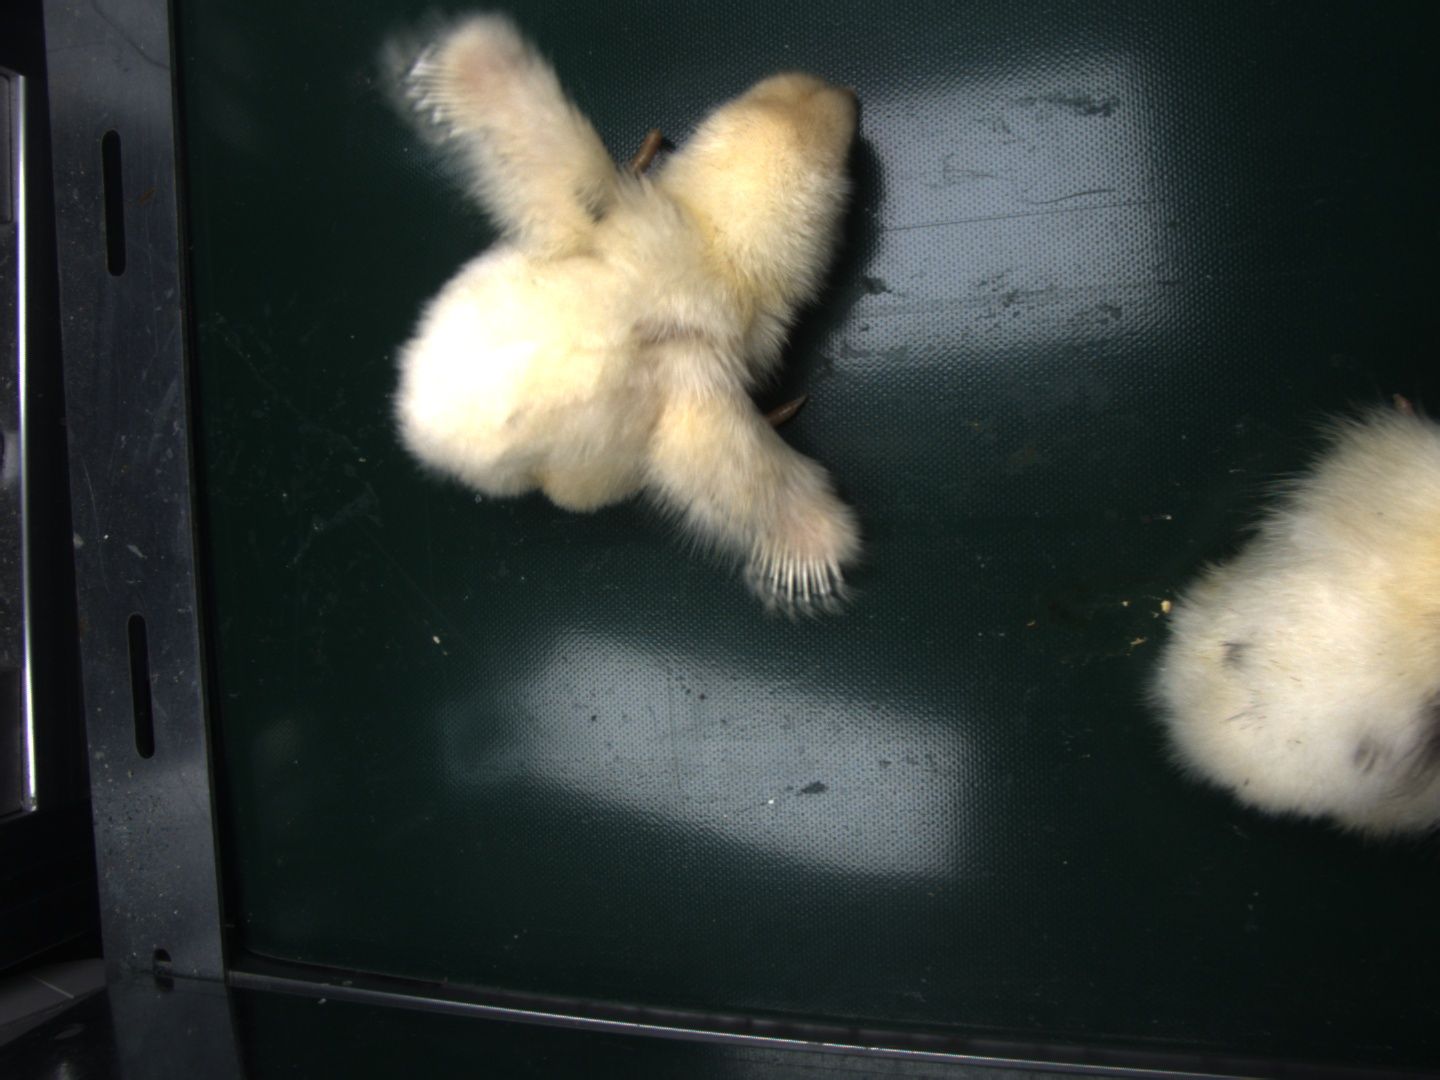male: (753, 538, 840, 599)
